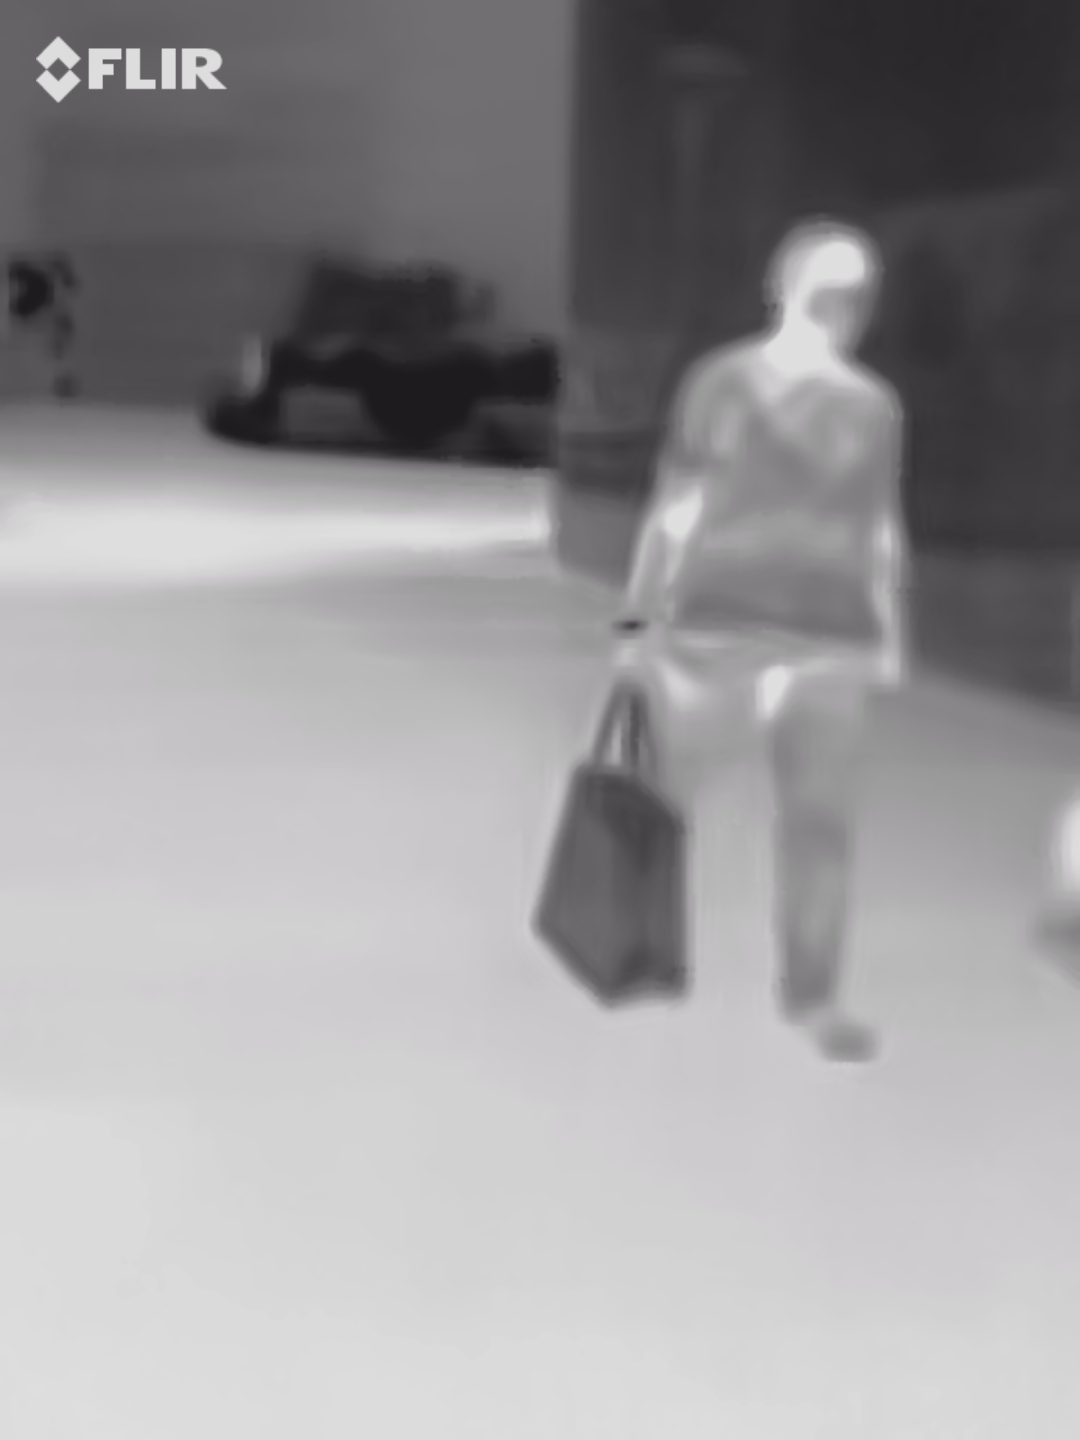head: (760, 218, 891, 360)
